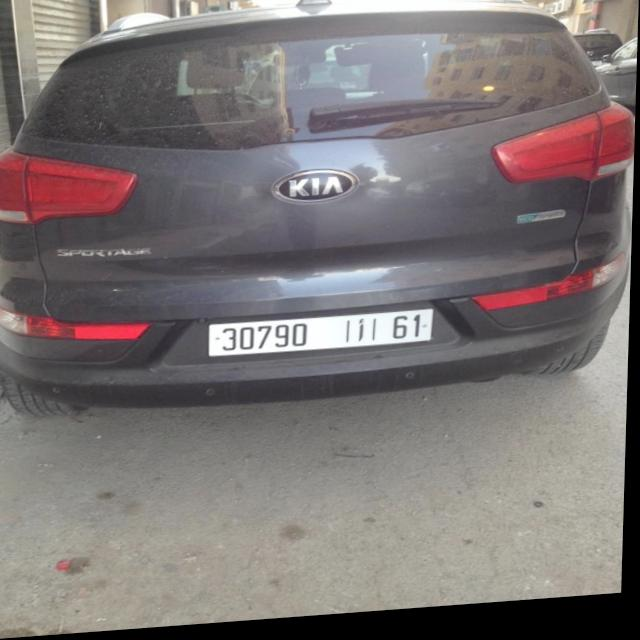License-Plate: (210, 316, 435, 360)
